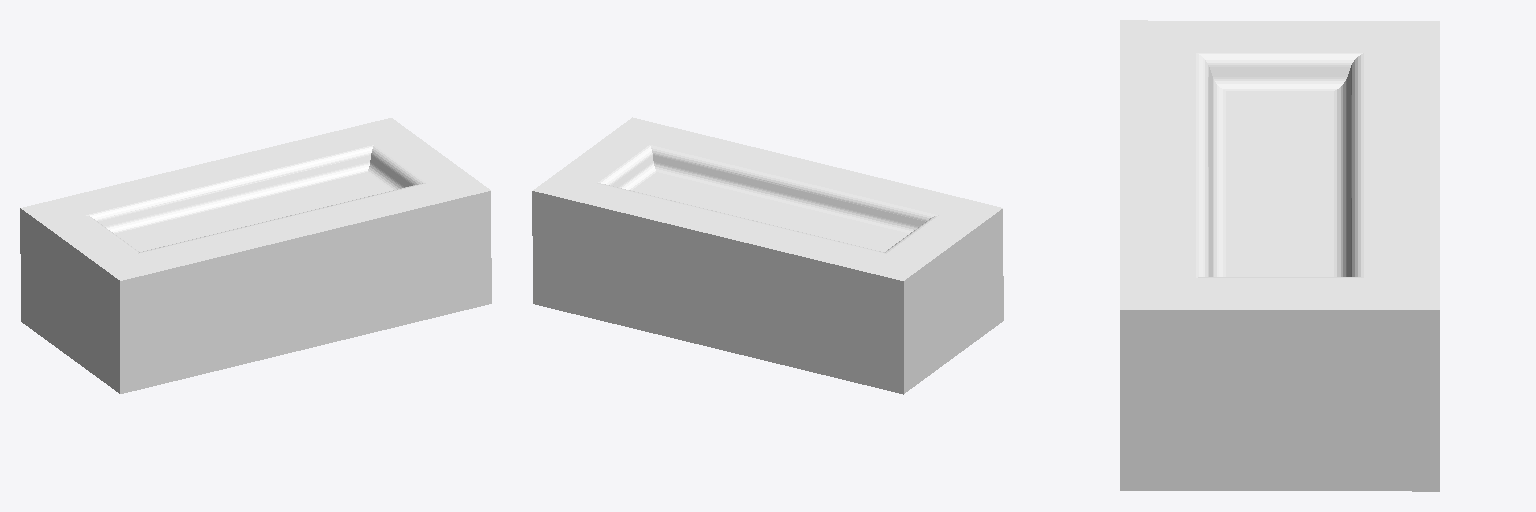
The robot description file, URDF, robot "apple":
<?xml version="1.0" encoding="utf-8"?>
<robot name="apple">
  <link name="base_link">
    <contact>
      <lateral_friction value="0.5"/>
      <rolling_friction value="0.0"/>
      <contact_cfm value="0.0"/>
      <contact_erp value="1.0"/>
    </contact>
    <inertial>
      <origin rpy="0 0 0" xyz="0 0 0"/>
      <mass value=".1"/>
      <inertia ixx="0" ixy="0" ixz="0" iyy="0" iyz="0" izz="0"/>
    </inertial>
    <visual>
      <origin rpy="1.57 0 0" xyz="0 0 0"/>
      <geometry>
        <mesh filename="models/meshes/brick/brick.obj" scale="2 2 2"/>
      </geometry>
      <material name="hi">
        <color rgba="1 1 1 1"/>
      </material>
    </visual>
    <collision>
      <origin rpy="1.57 0 0" xyz="0 0 0"/>
      <geometry>
        <mesh filename="models/meshes/brick/brick.obj" scale="2 2 2"/>
      </geometry>
    </collision>
  </link>
</robot>

--- What the picture shows (computed from the rendered views, not written in the file) ---
3 views of the same robot in one strip: view 1: azimuth 30°, elevation 25°; view 2: azimuth 150°, elevation 25°; view 3: azimuth 270°, elevation 25° (orthographic).
Robot: apple — 1 links, 0 joints (none); root link base_link; default pose: all joints at 0.
Visible links, largest first — view 1: base_link; view 2: base_link; view 3: base_link.
Link boxes in pixels (<box>): base_link: <box>20,118,491,393</box>; base_link: <box>532,117,1003,394</box>; base_link: <box>1120,20,1439,491</box>.
Bounding box of the posed robot: 0.48 × 0.2241 × 0.1402 m (x, y, z).
Meshes: 1 distinct files referenced, 1 mesh visuals loaded (1 OBJ).